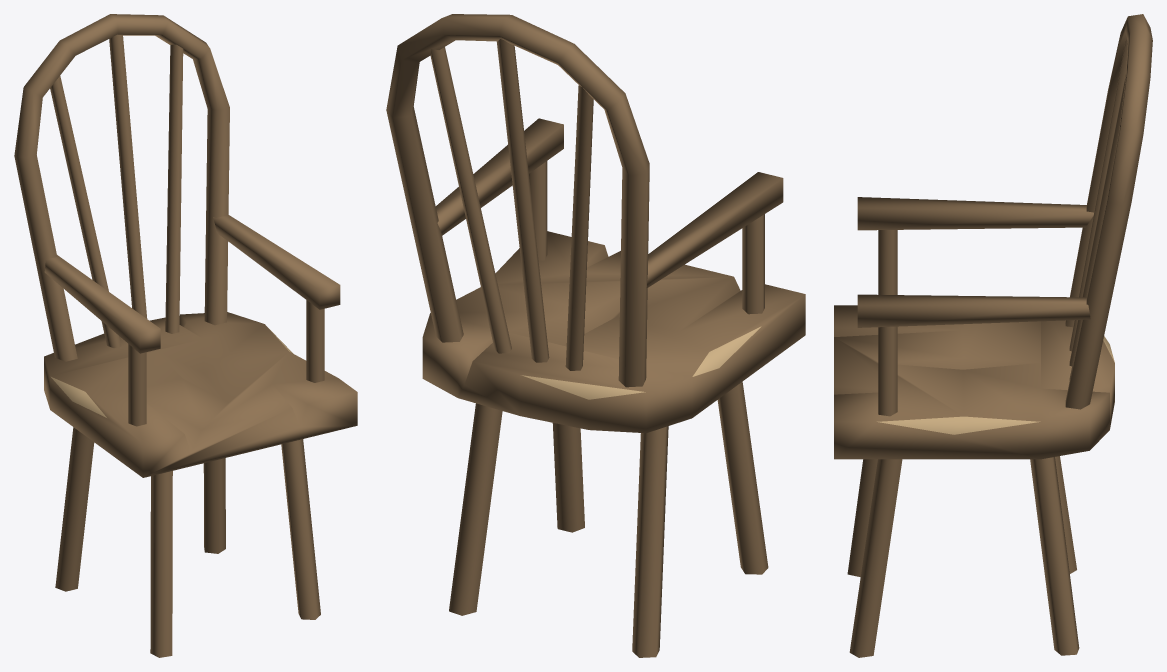
File: rpgpp_ag_chair_01.fbx
3 views of the same model, side by side, from view 1: azimuth 30°, elevation 25°; view 2: azimuth 150°, elevation 25°; view 3: azimuth 270°, elevation 25° (orthographic). The views are drawn at different scales.
Parts seen in each view (by area): view 1: rpgpp_ag_chair_01; view 2: rpgpp_ag_chair_01; view 3: rpgpp_ag_chair_01.
Part boxes in pixels (x1,y1,x2,y2): rpgpp_ag_chair_01: (14, 14, 357, 657); rpgpp_ag_chair_01: (386, 14, 805, 657); rpgpp_ag_chair_01: (834, 14, 1152, 657).
Size of the model in its own units: 0.4 by 0.9374 by 0.4624.
